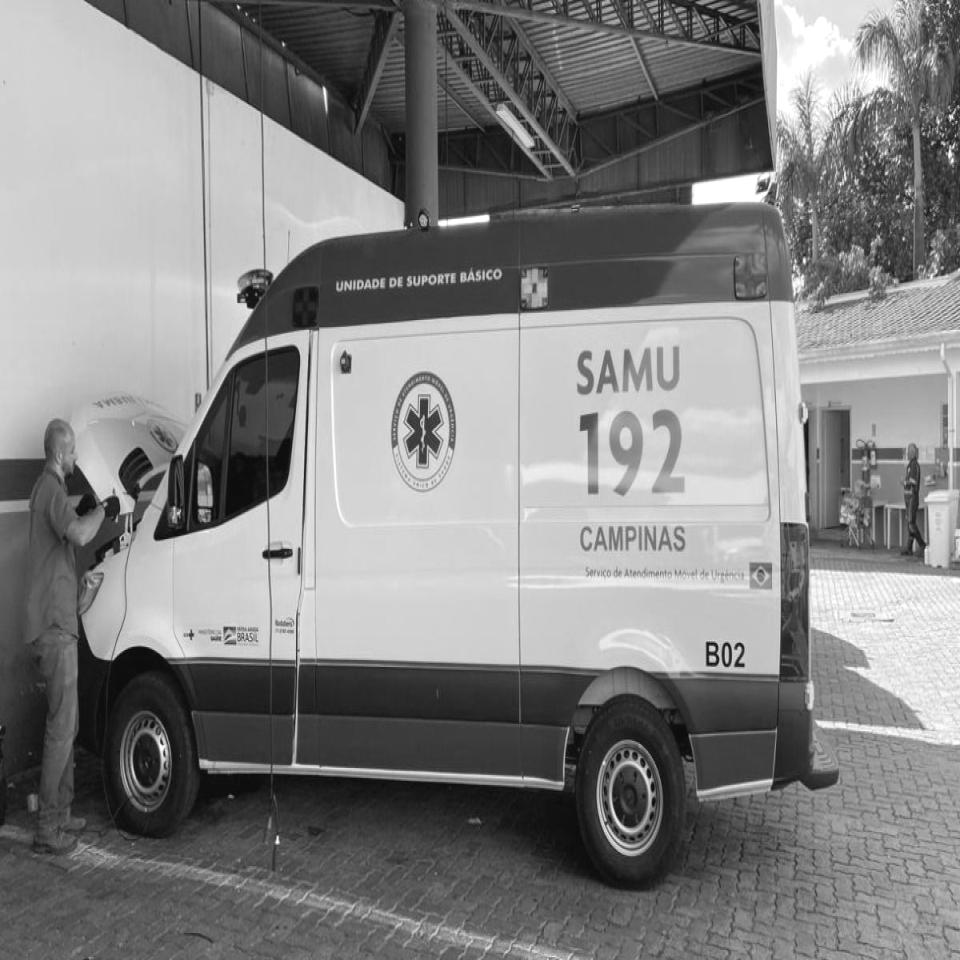ambulancia: (123, 207, 843, 892)
